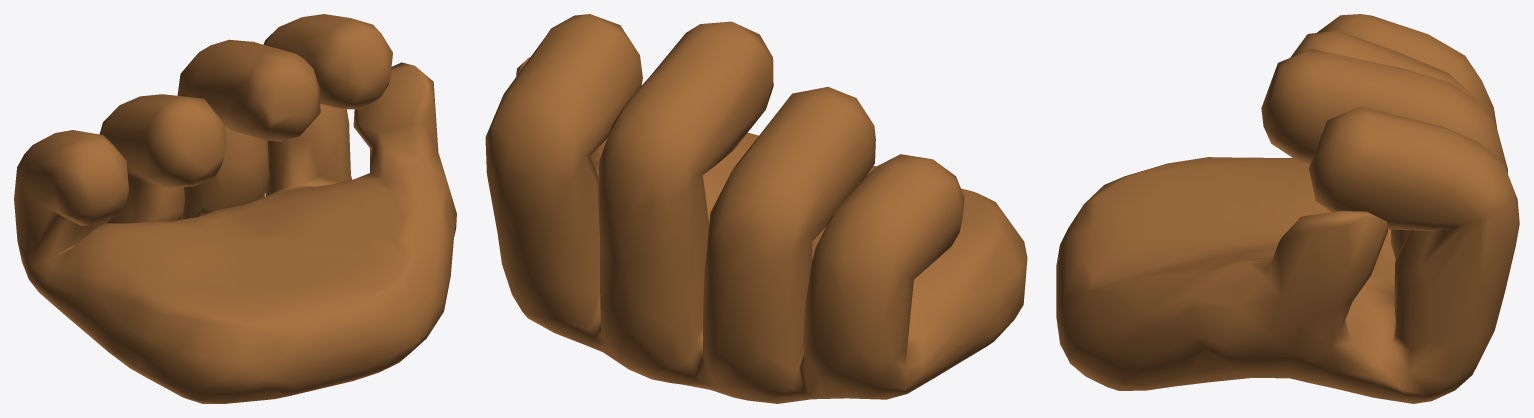
Rendered from grab_hand_right.fbx.
The picture shows the model from 3 angles, left to right: view 1: azimuth 30°, elevation 25°; view 2: azimuth 150°, elevation 25°; view 3: azimuth 270°, elevation 25°; orthographic projection. The views are drawn at different scales.
Visible parts, largest first — view 1: mesh; view 2: mesh; view 3: mesh.
Boxes of the visible parts, x1,y1,x2,y2 form: mesh: (14,14,456,403); mesh: (485,14,1027,403); mesh: (1056,14,1519,403).
Size of the model in its own units: 5.69 by 3.85 by 5.06.
